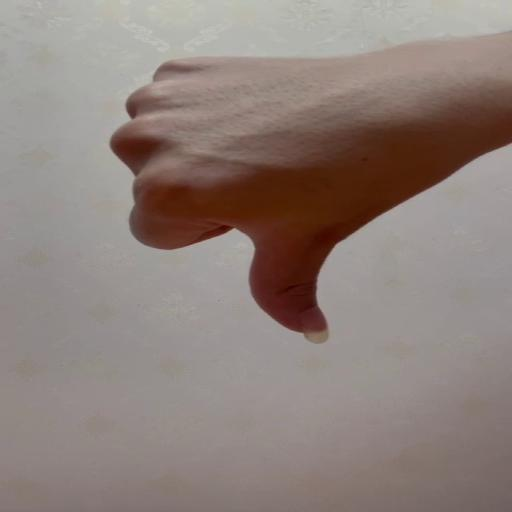thumbs_down: (105, 53, 414, 346)
